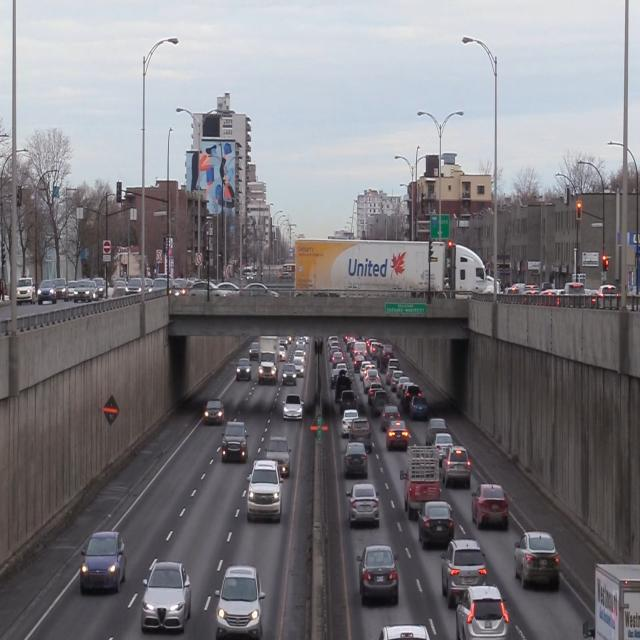Car: (144, 558, 192, 634), (217, 567, 264, 639), (440, 539, 490, 605), (450, 590, 510, 640), (83, 528, 127, 592), (514, 530, 560, 590), (357, 544, 401, 606), (404, 446, 442, 516), (245, 458, 283, 521), (469, 483, 511, 532), (345, 483, 384, 531), (417, 501, 455, 548), (443, 446, 471, 492), (257, 338, 281, 387), (267, 436, 294, 475), (224, 419, 248, 461), (344, 442, 368, 479), (386, 419, 409, 453), (351, 417, 372, 451), (282, 394, 305, 423), (204, 397, 226, 425), (235, 356, 253, 383)
